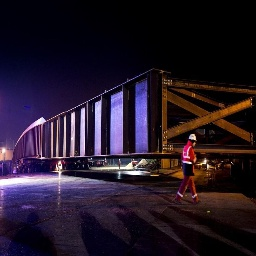helmet: (190, 133, 196, 142)
person: (175, 133, 203, 206)
vest: (183, 141, 193, 164)
